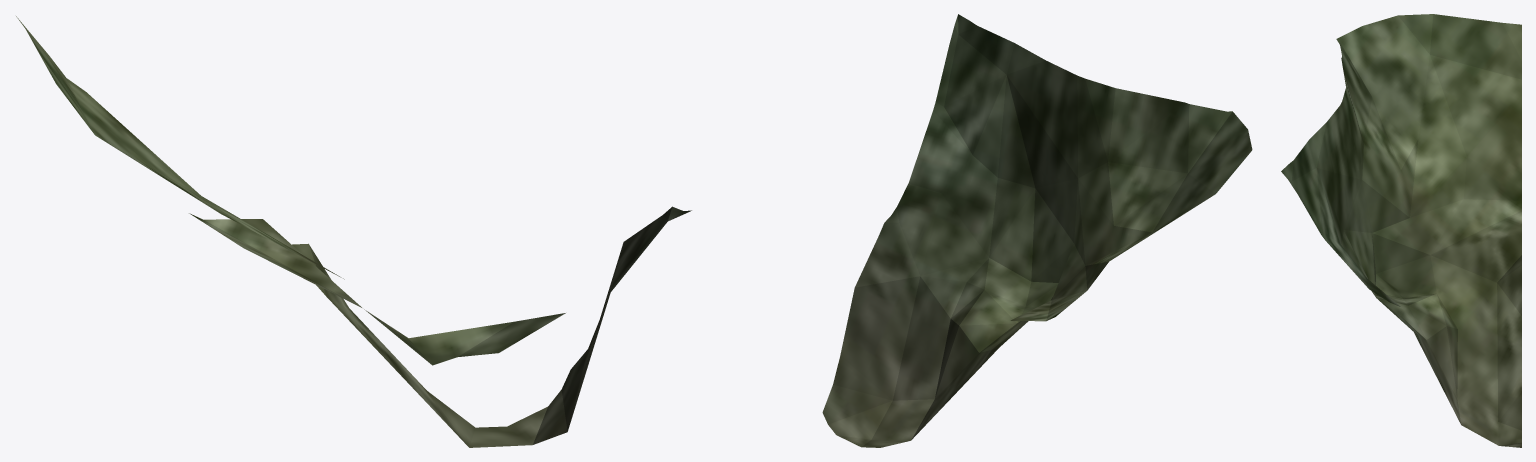
3 views of the same model, side by side, from view 1: azimuth 30°, elevation 25°; view 2: azimuth 150°, elevation 25°; view 3: azimuth 270°, elevation 25° (orthographic). The views are drawn at different scales.
Bounding box in the file's own units: 1.43 × 1.23 × 0.9276.
Materials: 1 (1 with a texture image).
